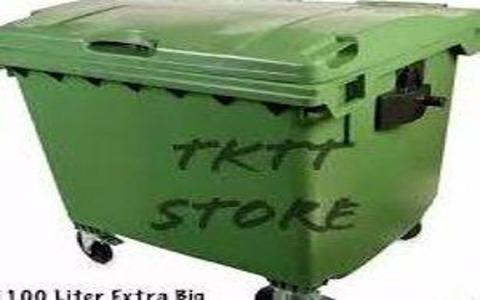Proper garbage: (4, 1, 474, 283)
